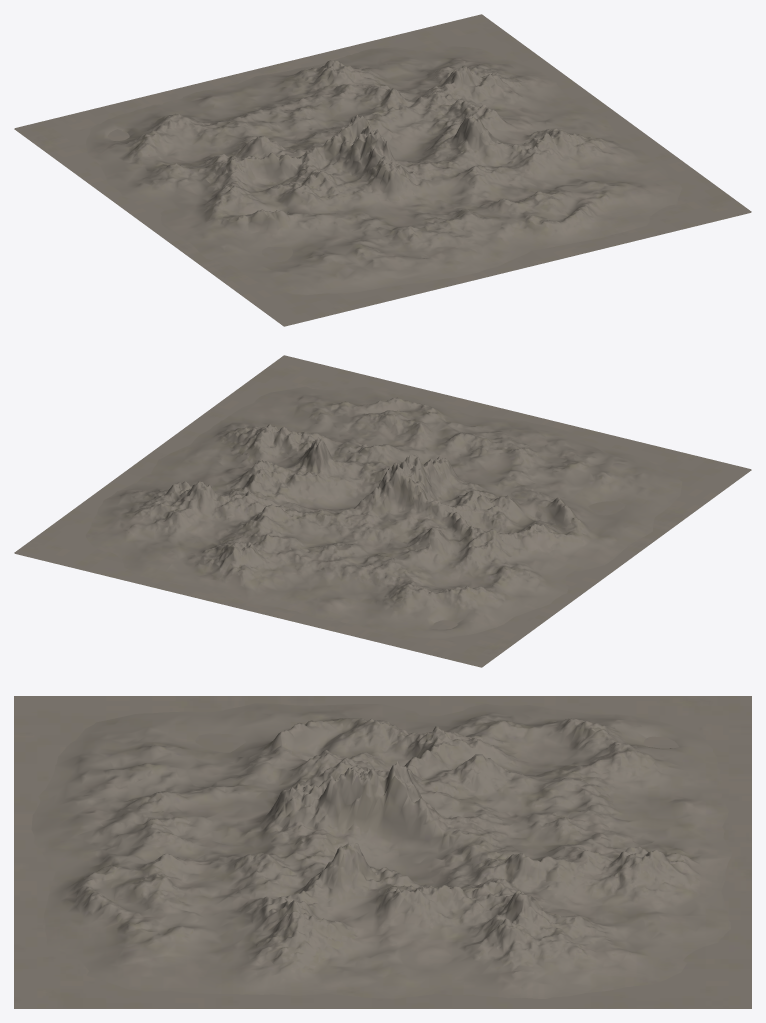
Rendered from mountain-terrain.glb.
3 renders of one model, top to bottom at view 1: azimuth 30°, elevation 25°; view 2: azimuth 150°, elevation 25°; view 3: azimuth 270°, elevation 25°, orthographic. The views are drawn at different scales.
Parts seen in each view (by area): view 1: Landscape001; view 2: Landscape001; view 3: Landscape001.
Part boxes in pixels (bbox=[...]): Landscape001: bbox=[14, 14, 751, 326]; Landscape001: bbox=[14, 355, 751, 667]; Landscape001: bbox=[14, 696, 751, 1008].
Bounding box in the file's own units: 7 × 0.8443 × 7.
Materials: 1 (1 with a texture image).
